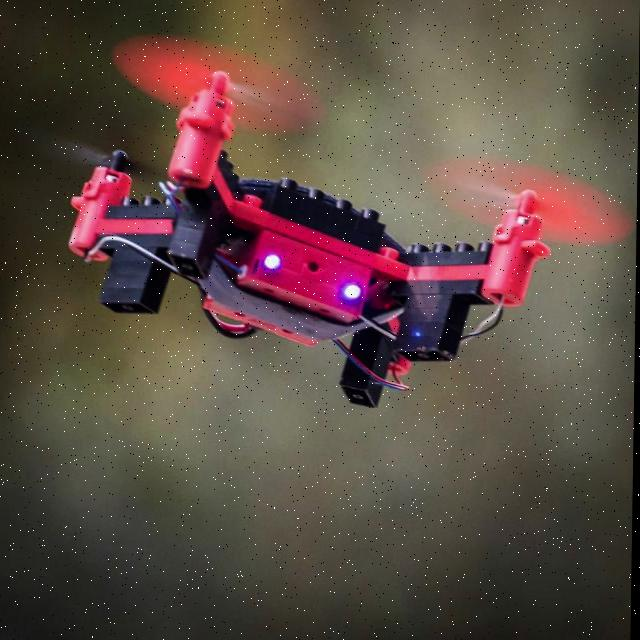drone: (0, 48, 603, 432)
